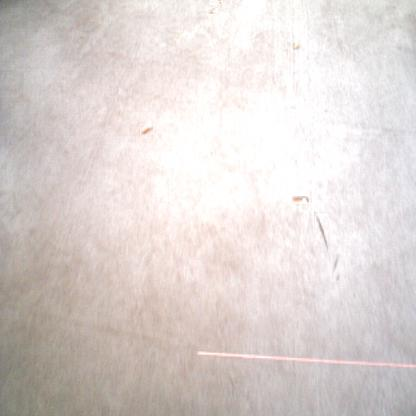dirty: (292, 196, 310, 204), (140, 124, 153, 135), (208, 6, 218, 14), (293, 41, 299, 50)
mark: (314, 212, 328, 250), (331, 253, 340, 282), (218, 0, 222, 4)
